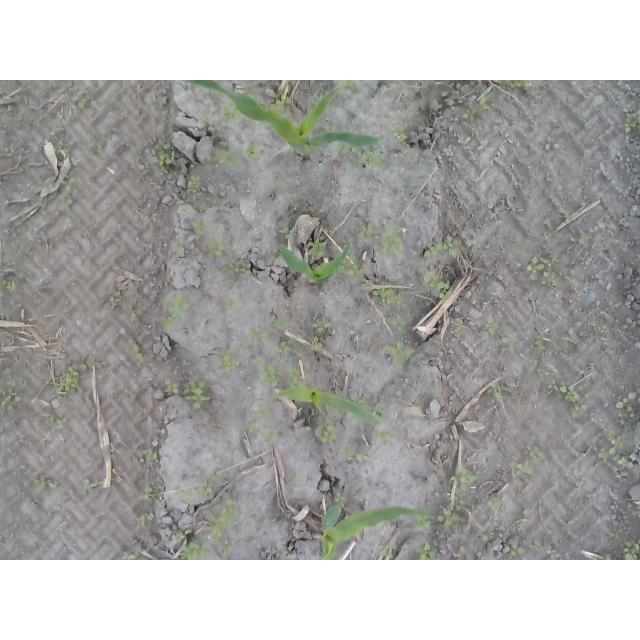Maize: (174, 80, 381, 162), (319, 500, 426, 560), (271, 386, 380, 424), (278, 240, 352, 289)
Weeds: (354, 221, 410, 260), (54, 359, 103, 401), (176, 467, 227, 506), (208, 498, 240, 559), (543, 378, 588, 417), (334, 142, 385, 175), (208, 235, 251, 274), (158, 289, 193, 333), (417, 261, 452, 299), (436, 494, 469, 530), (527, 255, 562, 288), (153, 138, 183, 175), (510, 447, 545, 478), (384, 336, 416, 369), (252, 352, 282, 387), (423, 232, 462, 258), (190, 201, 215, 240), (591, 445, 633, 468), (448, 465, 481, 492), (181, 378, 208, 411), (214, 348, 243, 375), (527, 538, 563, 559), (384, 118, 410, 146), (213, 147, 244, 170), (20, 477, 57, 496), (614, 391, 640, 418), (175, 540, 210, 560), (308, 318, 329, 351), (0, 388, 26, 413), (265, 91, 294, 113), (202, 109, 223, 139), (319, 414, 338, 447), (278, 337, 304, 360), (617, 111, 640, 135), (372, 287, 400, 305), (70, 90, 94, 110), (606, 424, 625, 449), (374, 429, 399, 448), (495, 81, 538, 92), (186, 174, 209, 194), (128, 335, 145, 362), (246, 325, 271, 343), (488, 383, 513, 401), (592, 320, 617, 337), (307, 239, 329, 258), (377, 542, 400, 560), (415, 544, 439, 561), (343, 447, 370, 462), (221, 104, 242, 123), (263, 424, 282, 444), (287, 368, 306, 388), (503, 543, 528, 558), (139, 486, 158, 505), (388, 314, 409, 331), (225, 288, 239, 313), (276, 317, 301, 331), (163, 378, 181, 397), (621, 542, 640, 560), (135, 511, 156, 527), (351, 264, 369, 281), (61, 175, 78, 193), (464, 103, 481, 121), (49, 411, 66, 429), (127, 304, 145, 321), (245, 144, 264, 160), (622, 317, 638, 335), (104, 294, 122, 310), (450, 318, 465, 337), (275, 223, 294, 238), (487, 497, 506, 512), (242, 416, 258, 433), (479, 94, 494, 112), (1, 105, 16, 123), (303, 80, 322, 94), (587, 410, 609, 422), (500, 328, 516, 344), (254, 405, 269, 422), (415, 515, 433, 529), (121, 548, 140, 561), (81, 479, 98, 493), (529, 338, 545, 352), (142, 449, 159, 462), (55, 198, 73, 210), (274, 175, 288, 190), (484, 320, 497, 336), (0, 277, 16, 290), (609, 528, 626, 540), (339, 80, 364, 88), (201, 311, 219, 322), (335, 492, 347, 508), (576, 235, 593, 246), (282, 543, 295, 557), (480, 529, 493, 543), (372, 403, 384, 417), (520, 509, 529, 527), (350, 398, 366, 408), (61, 140, 74, 152), (174, 241, 187, 253), (560, 336, 577, 345), (287, 190, 306, 198), (534, 368, 550, 377), (173, 529, 185, 541), (412, 479, 425, 490), (212, 423, 225, 434), (603, 552, 618, 561), (550, 143, 561, 154), (561, 210, 572, 221), (242, 343, 254, 353), (239, 120, 254, 128), (47, 176, 56, 189), (136, 159, 144, 173), (543, 231, 554, 241), (415, 151, 425, 162), (471, 127, 481, 137), (489, 344, 500, 353), (190, 367, 204, 374), (110, 447, 122, 455), (292, 472, 301, 481), (399, 383, 409, 391), (70, 158, 79, 166), (96, 144, 104, 153), (303, 95, 309, 104), (463, 400, 469, 405), (475, 492, 482, 496)
